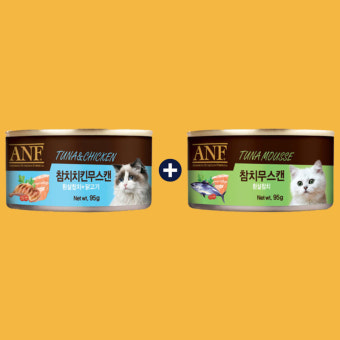paper: (4, 129, 155, 214), (184, 127, 335, 211)
